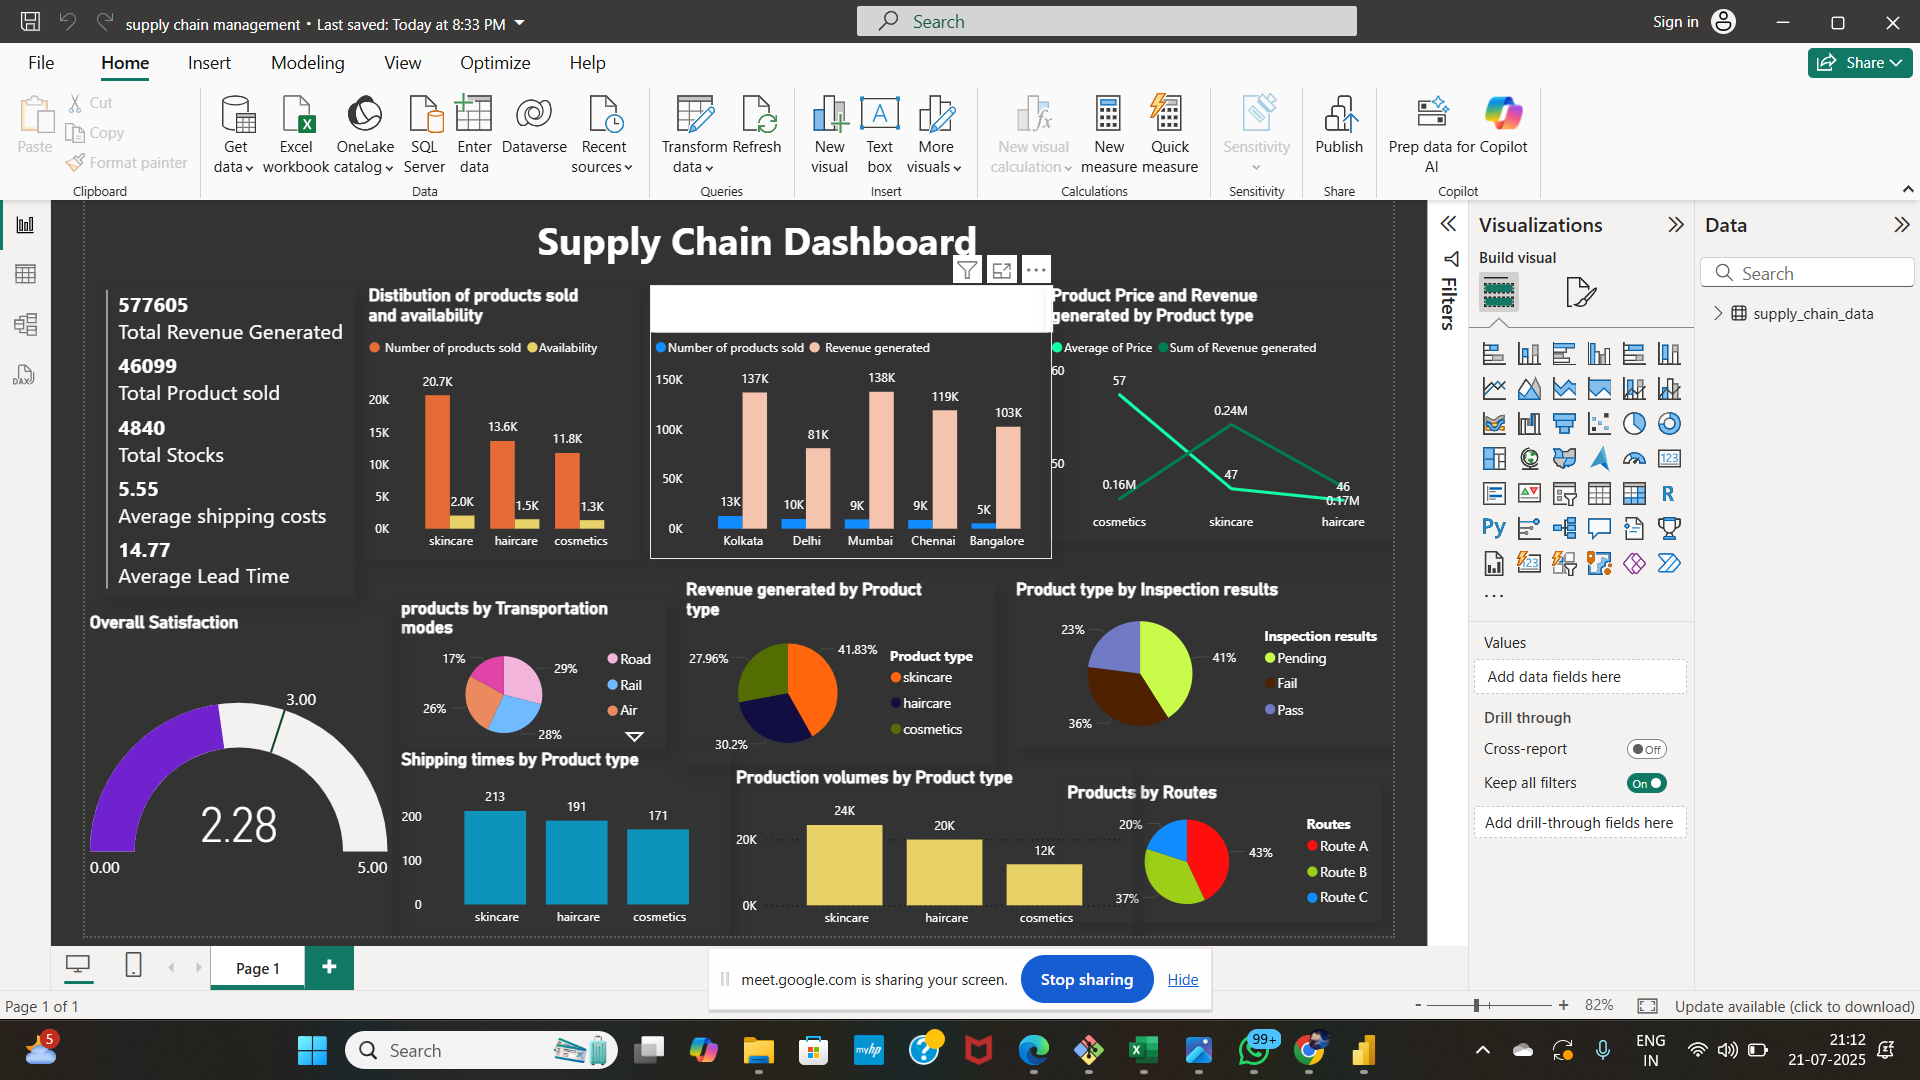

Layout of this report page (visuals, bound fields, positions):
{"tool":"powerbi","page":{"name":"Page 1","canvas":[1280,720],"ordinal":0},"visuals":[{"type":"multiRowCard","fields":{"Values":["supply_chain_data.Total Revenue Generated","supply_chain_data.Total Product sold","supply_chain_data.Total Stocks","supply_chain_data.Average shipping costs","supply_chain_data.Average Lead Time"]},"box":[16.3,82.6,247.7,305.8],"z":0},{"type":"clusteredColumnChart","title":"Distibution of products sold and availability","fields":{"Category":["supply_chain_data.Product type"],"Y":["Sum(supply_chain_data.Number of products sold)","Sum(supply_chain_data.Availability)"]},"box":[273.3,82.6,268.6,268.6],"z":1000},{"type":"clusteredColumnChart","title":" products sold and  Revenue generated by Location","fields":{"Category":["supply_chain_data.Location"],"Y":["Sum(supply_chain_data.Number of products sold)","Sum(supply_chain_data.Revenue generated)"]},"box":[552.3,82.6,394.2,268.6],"z":2000},{"type":"pieChart","title":"products by Transportation modes","fields":{"Y":["CountNonNull(supply_chain_data.SKU)"],"Category":["supply_chain_data.Transportation modes"]},"box":[304.7,388.4,264,148.8],"z":3000},{"type":"pieChart","title":" Revenue generated by Product type","fields":{"Category":["supply_chain_data.Product type"],"Y":["Sum(supply_chain_data.Revenue generated)"]},"box":[583.7,370.9,307,182.6],"z":4000},{"type":"pieChart","title":"Products by Routes","fields":{"Y":["CountNonNull(supply_chain_data.SKU)"],"Category":["supply_chain_data.Routes"]},"box":[955.8,568.6,312.8,137.2],"z":5000},{"type":"gauge","title":"Overall Satisfaction","fields":{"Y":["Avg(supply_chain_data.Defect rates)"],"MinValue":["supply_chain_data.Minimum value"],"MaxValue":["supply_chain_data.maximun Value"],"TargetValue":["supply_chain_data.Target value"]},"box":[0,402.3,301.2,317.4],"z":6000},{"type":"lineChart","title":"Product Price and Revenue generated by Product type","fields":{"Category":["supply_chain_data.Product type"],"Y":["Avg(supply_chain_data.Price)"],"Y2":["Sum(supply_chain_data.Revenue generated)"]},"box":[940.7,82.6,339.5,250],"z":7000},{"type":"columnChart","title":"Shipping times by Product type","fields":{"Category":["supply_chain_data.Product type"],"Y":["Sum(supply_chain_data.Shipping times)"]},"box":[304.7,537.2,326.7,182.6],"z":8000},{"type":"clusteredColumnChart","title":"Production volumes by Product type","fields":{"Category":["supply_chain_data.Product type"],"Y":["Sum(supply_chain_data.Production volumes)"]},"box":[632.6,553.5,391.9,166.3],"z":9000},{"type":"pieChart","title":"Product type by Inspection results","fields":{"Category":["supply_chain_data.Inspection results"],"Y":["CountNonNull(supply_chain_data.Product type)"]},"box":[905.8,370.9,374.4,165.1],"z":10000},{"type":"textbox","box":[437.2,8.1,453.5,74.4],"z":11000}]}

Visuals, with their boxes on the page's 1280x720 design canvas (x1, y1, x2, y2). These are canvas units, not pixel positions in the 1920x1080 screenshot, which may show the page scaled, cropped or inside an application window:
multiRowCard - supply_chain_data.Total Revenue Generated x supply_chain_data.Total Product sold: {"x1": 16, "y1": 83, "x2": 264, "y2": 388}
"Distibution of products sold and availability" clusteredColumnChart: {"x1": 273, "y1": 83, "x2": 542, "y2": 351}
" products sold and  Revenue generated by Location" clusteredColumnChart: {"x1": 552, "y1": 83, "x2": 946, "y2": 351}
"products by Transportation modes" pieChart: {"x1": 305, "y1": 388, "x2": 569, "y2": 537}
" Revenue generated by Product type" pieChart: {"x1": 584, "y1": 371, "x2": 891, "y2": 554}
"Products by Routes" pieChart: {"x1": 956, "y1": 569, "x2": 1269, "y2": 706}
"Overall Satisfaction" gauge: {"x1": 0, "y1": 402, "x2": 301, "y2": 720}
"Product Price and Revenue generated by Product type" lineChart: {"x1": 941, "y1": 83, "x2": 1280, "y2": 333}
"Shipping times by Product type" columnChart: {"x1": 305, "y1": 537, "x2": 631, "y2": 720}
"Production volumes by Product type" clusteredColumnChart: {"x1": 633, "y1": 554, "x2": 1024, "y2": 720}
"Product type by Inspection results" pieChart: {"x1": 906, "y1": 371, "x2": 1280, "y2": 536}
textbox: {"x1": 437, "y1": 8, "x2": 891, "y2": 82}
